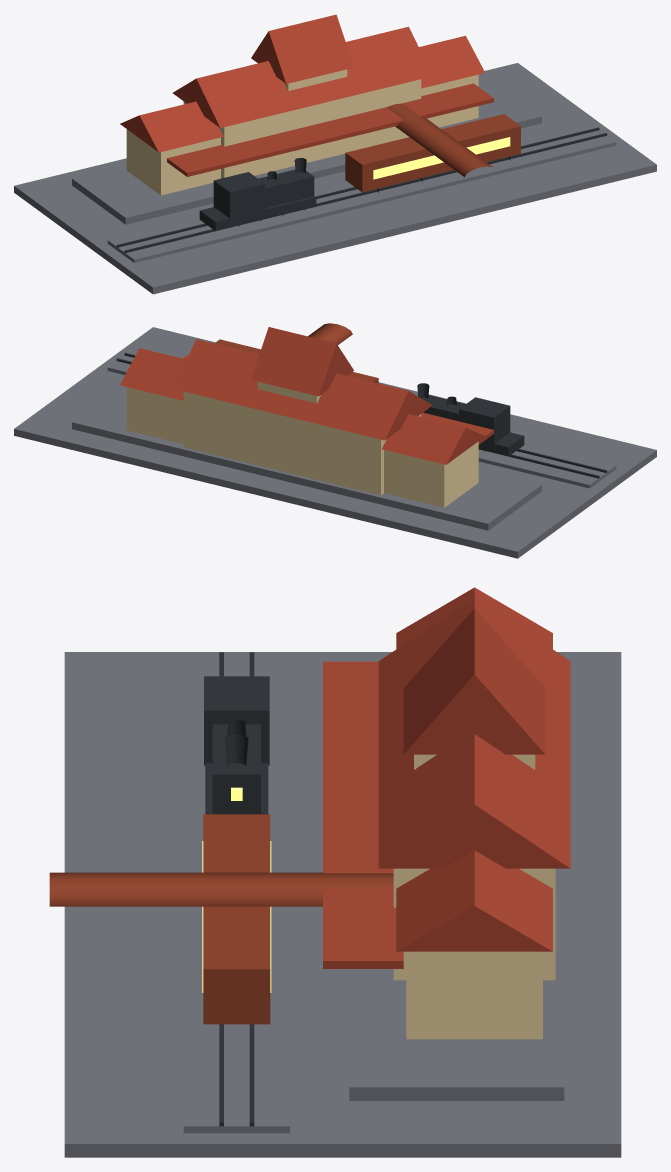
The model's file is lm_21_trai_mat_heritage_train_station.glb.
3 views of the same model, one above another, from view 1: azimuth 30°, elevation 25°; view 2: azimuth 150°, elevation 25°; view 3: azimuth 270°, elevation 25° (orthographic). The views are drawn at different scales.
Parts seen in each view (by area): view 1: Station_Platform_And_Ballast, Station_Roofs_And_Canopy, TraiMat_Station_Walls, Heritage_Wooden_Carriage, Steam_Locomotive_And_Rails, Night_Station_And_Carriage_Lights; view 2: Station_Platform_And_Ballast, Station_Roofs_And_Canopy, TraiMat_Station_Walls, Steam_Locomotive_And_Rails, Heritage_Wooden_Carriage; view 3: Station_Platform_And_Ballast, Station_Roofs_And_Canopy, Heritage_Wooden_Carriage, TraiMat_Station_Walls, Steam_Locomotive_And_Rails.
Part boxes in pixels (x1,y1,x2,y2): Station_Platform_And_Ballast: (14,63,656,294); Station_Roofs_And_Canopy: (120,14,493,176); TraiMat_Station_Walls: (126,69,478,195); Heritage_Wooden_Carriage: (345,103,520,192); Steam_Locomotive_And_Rails: (116,127,607,252); Night_Station_And_Carriage_Lights: (373,137,510,179); Station_Platform_And_Ballast: (14,327,656,558); Station_Roofs_And_Canopy: (120,327,493,464); TraiMat_Station_Walls: (126,381,478,507); Steam_Locomotive_And_Rails: (116,353,607,478); Heritage_Wooden_Carriage: (214,323,378,383); Station_Platform_And_Ballast: (64,652,621,1157); Station_Roofs_And_Canopy: (323,587,570,968); Heritage_Wooden_Carriage: (49,814,393,1024); TraiMat_Station_Walls: (393,754,555,1039); Steam_Locomotive_And_Rails: (204,652,269,1126).
Size of the model in its own units: 46 by 11.8 by 22.6.
